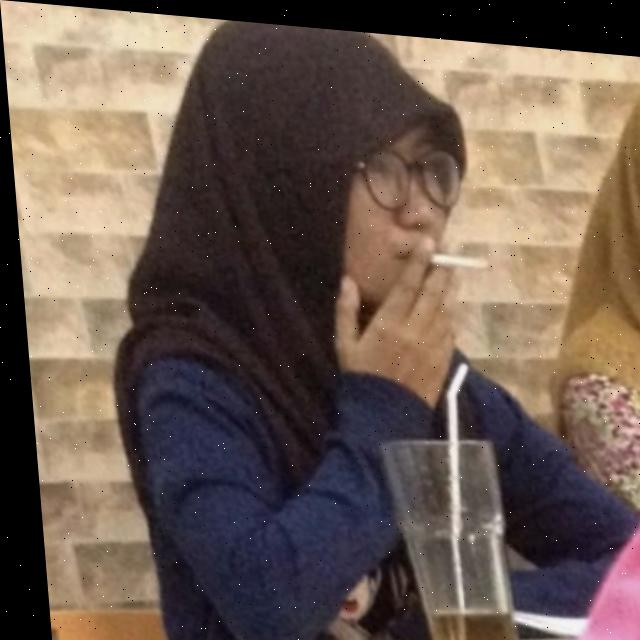cigarette: (425, 244, 489, 264)
